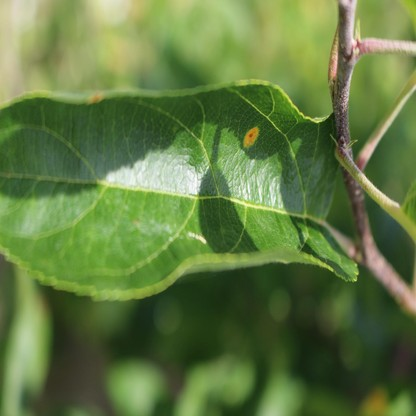rust: (243, 128, 259, 148)
